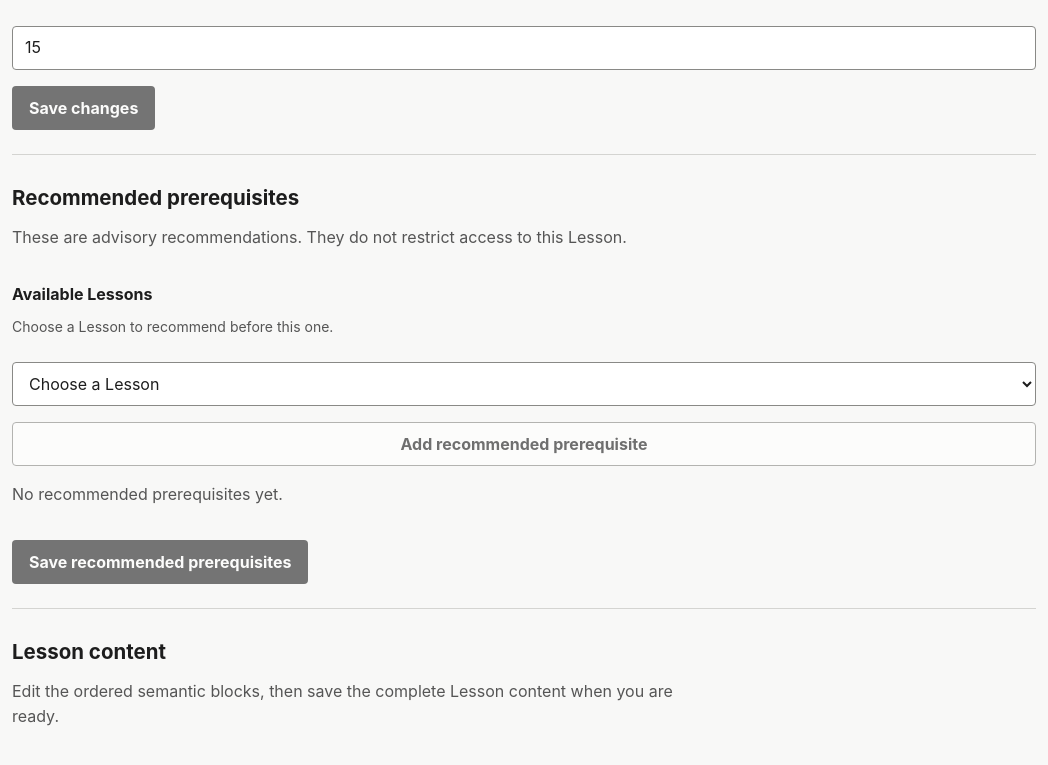
it: AuthoringDraftLessonPage › keeps prerequisite validation failures recoverable and hides unavailable Draft structure
(page scrolled)
Select "Introduction to EAI (intro-to-eai)" in the dropdown labelled "Available Lessons" at x=524, y=384, box [12,362,1036,406]
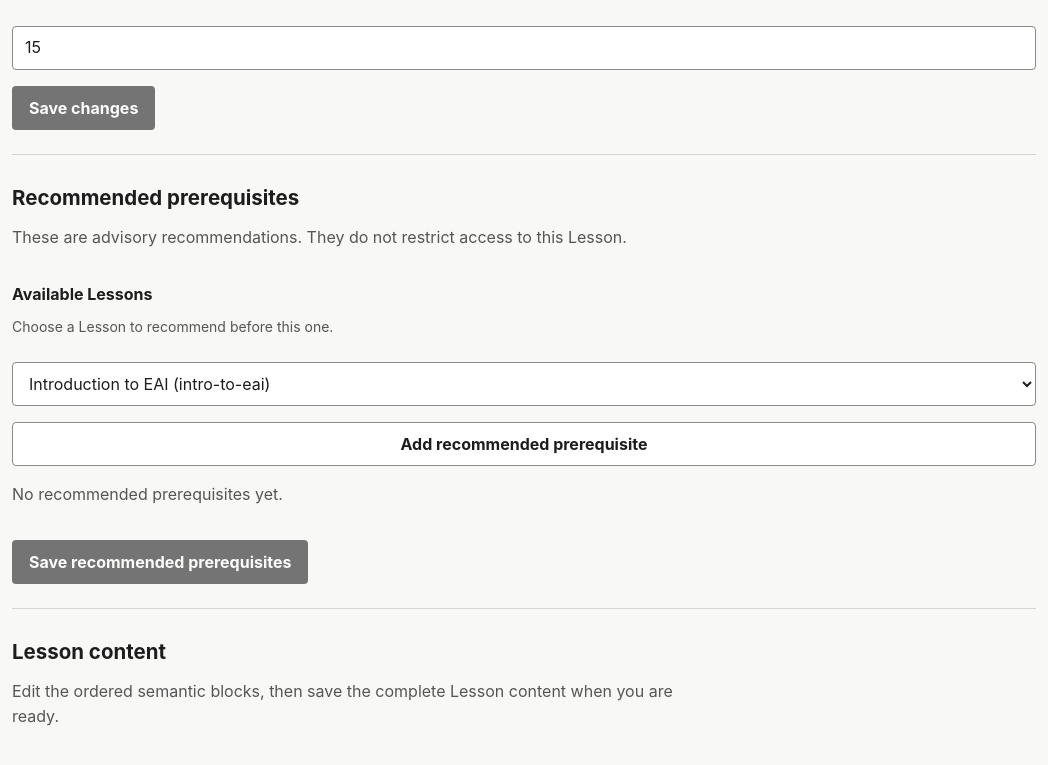
Click the button "Add recommended prerequisite" at x=524, y=444, box [12,422,1036,466]
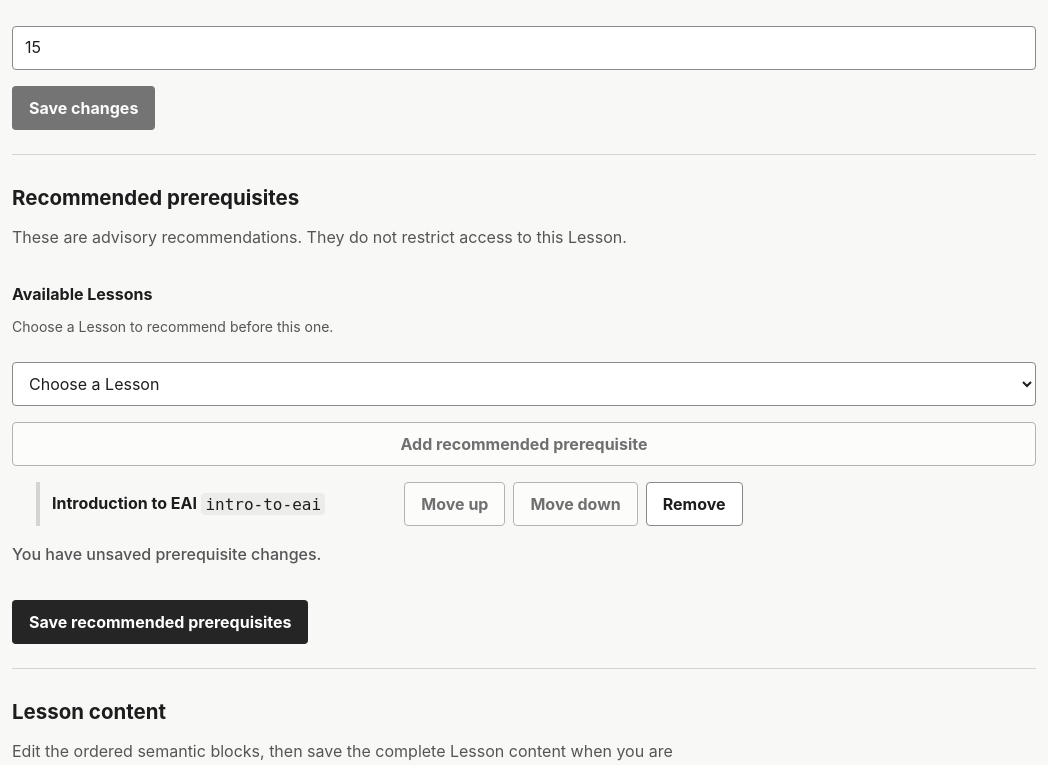
Click the button "Save recommended prerequisites" at x=160, y=622, box [12,600,308,644]
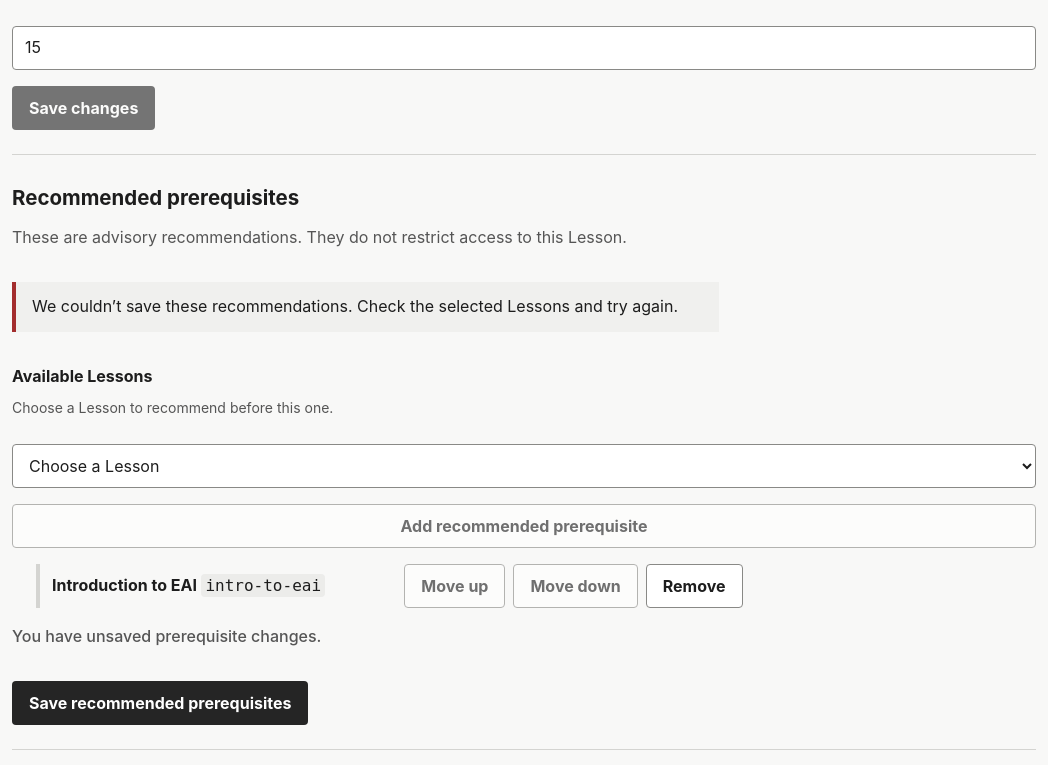
expect the text "couldn’t save these recommendations" is shown: met, box [32,296,678,316]
